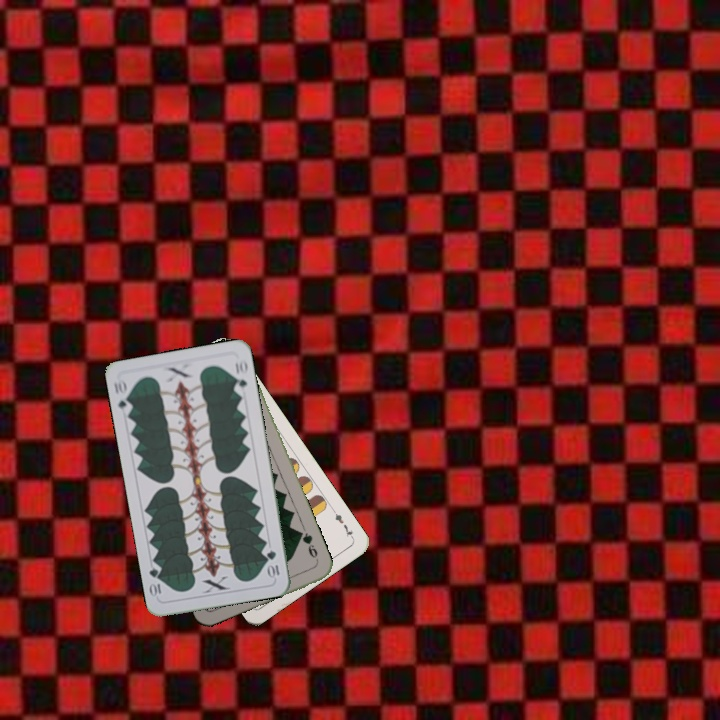E7: (328, 506, 356, 541)
G10: (110, 375, 134, 415), (263, 546, 282, 580)
G9: (296, 528, 321, 565)
